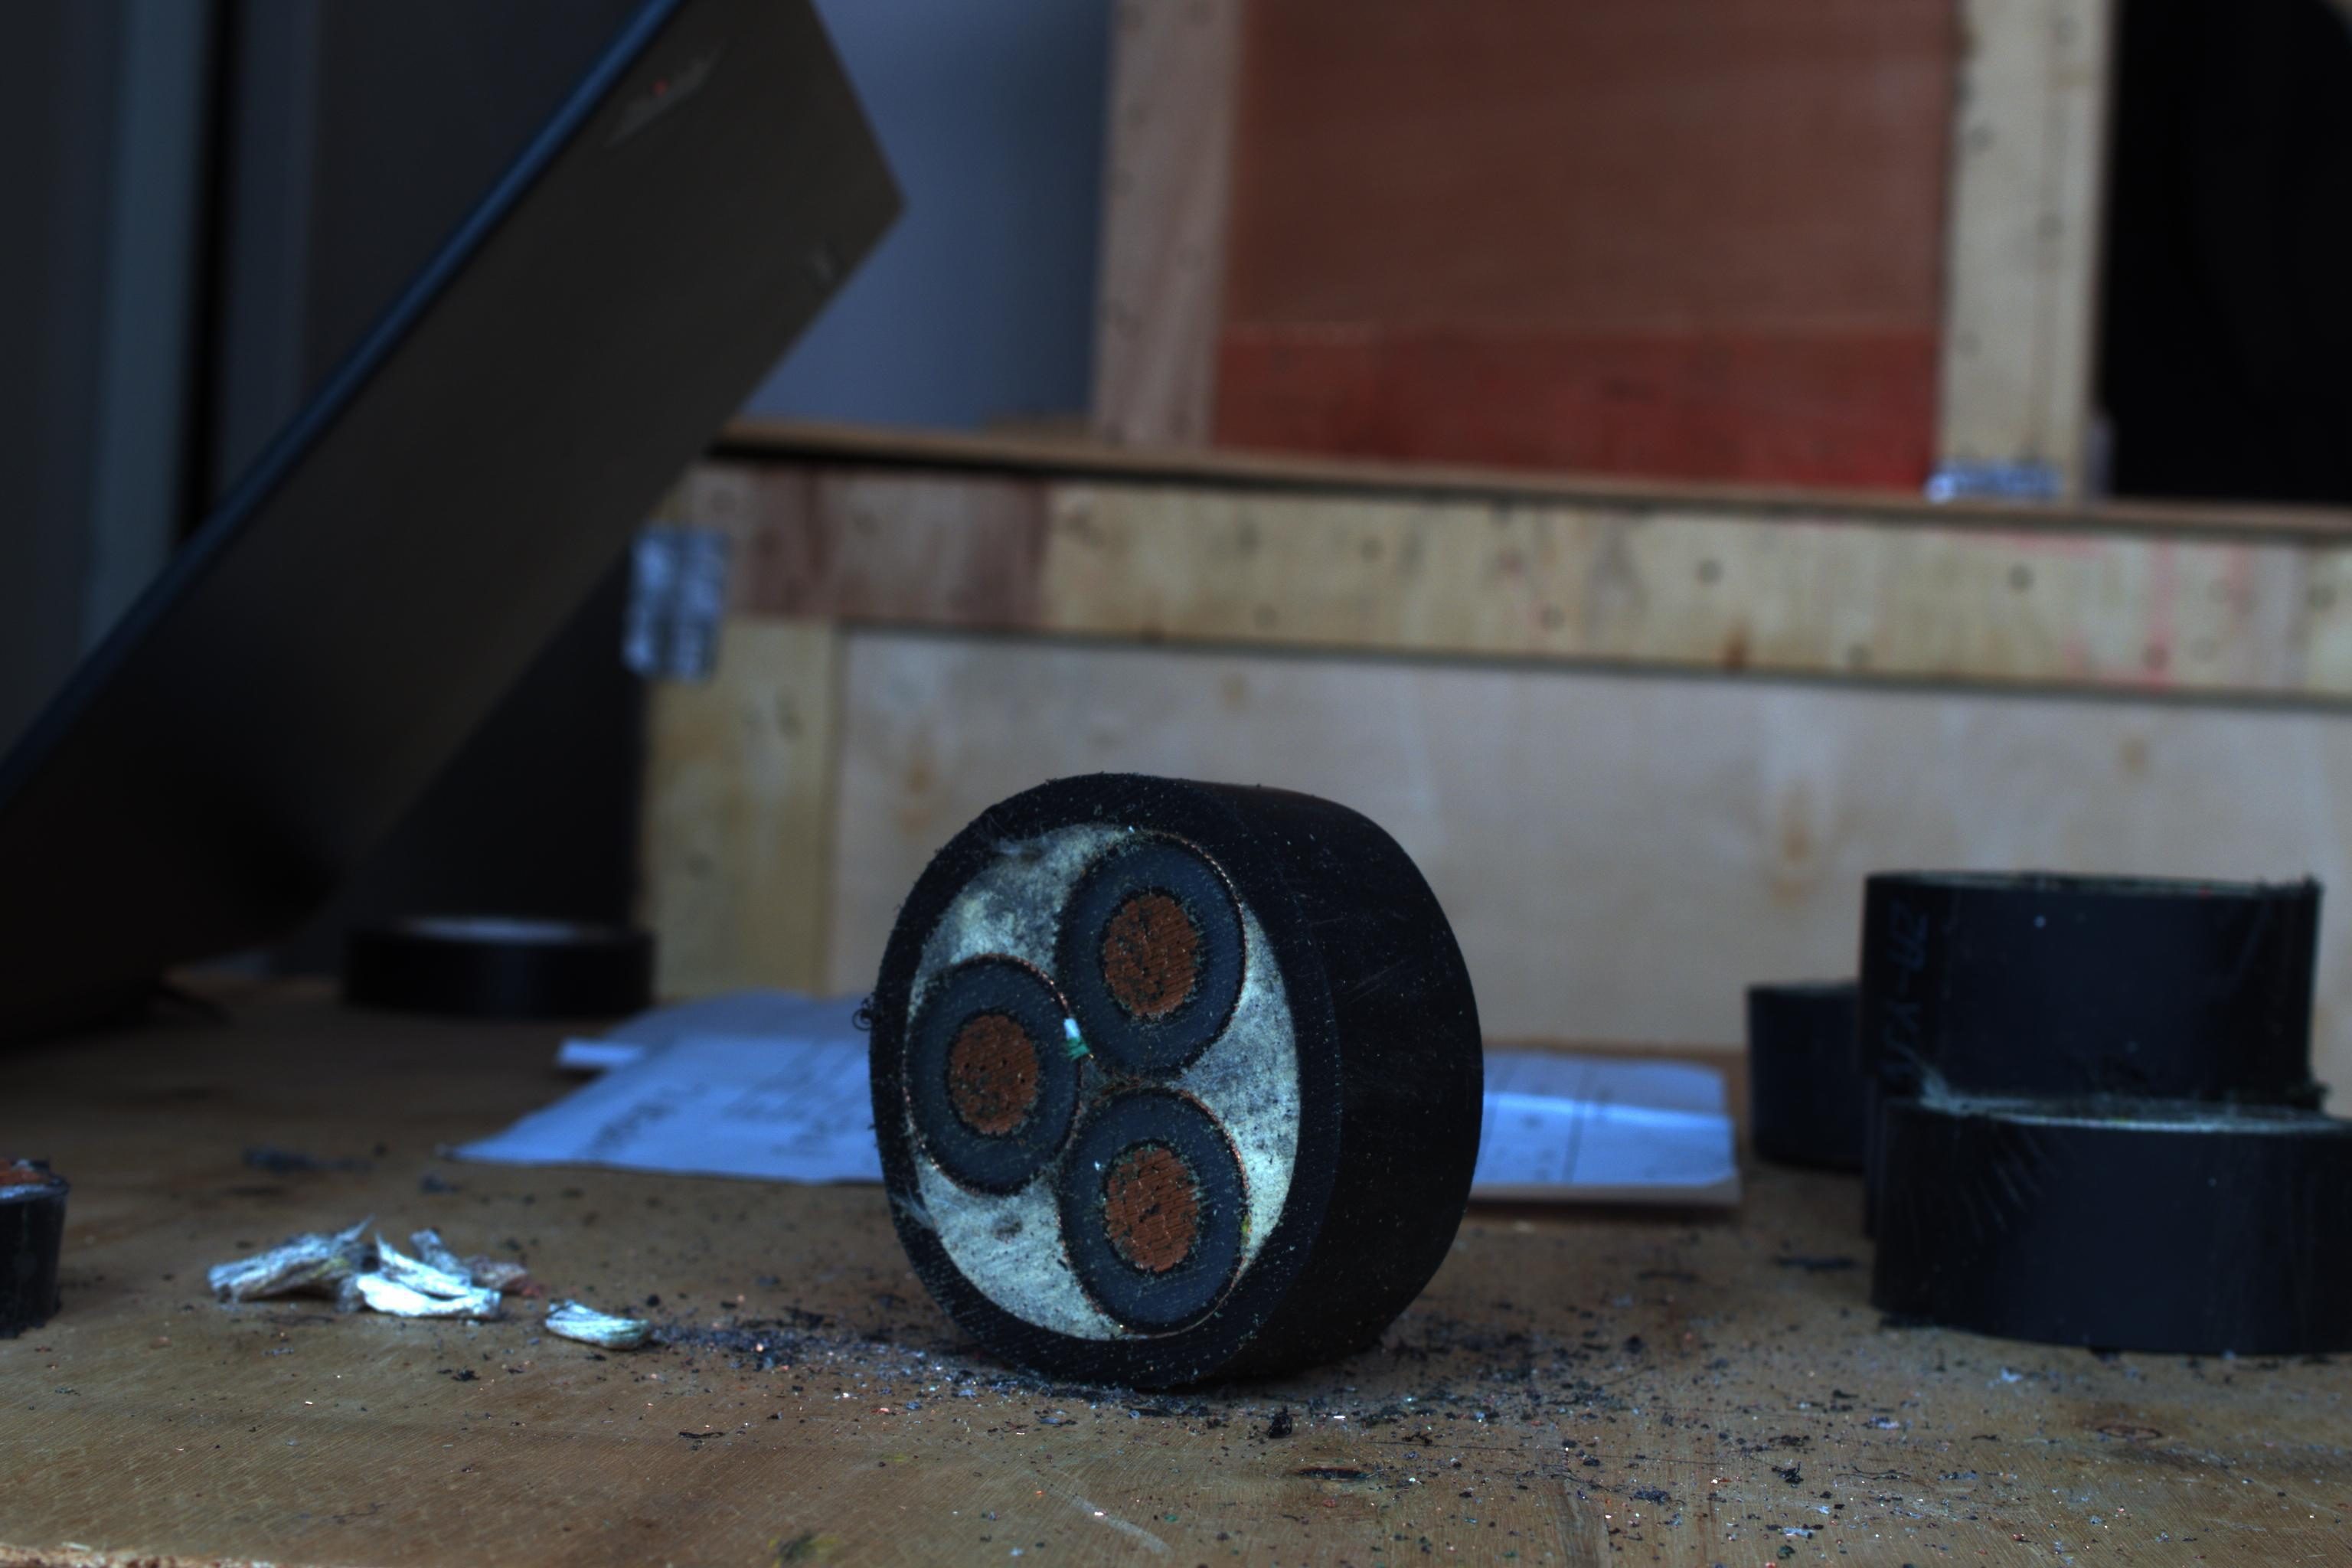ZA_YJV_8.7_10kV_3x120: (857, 796, 1321, 1358)
